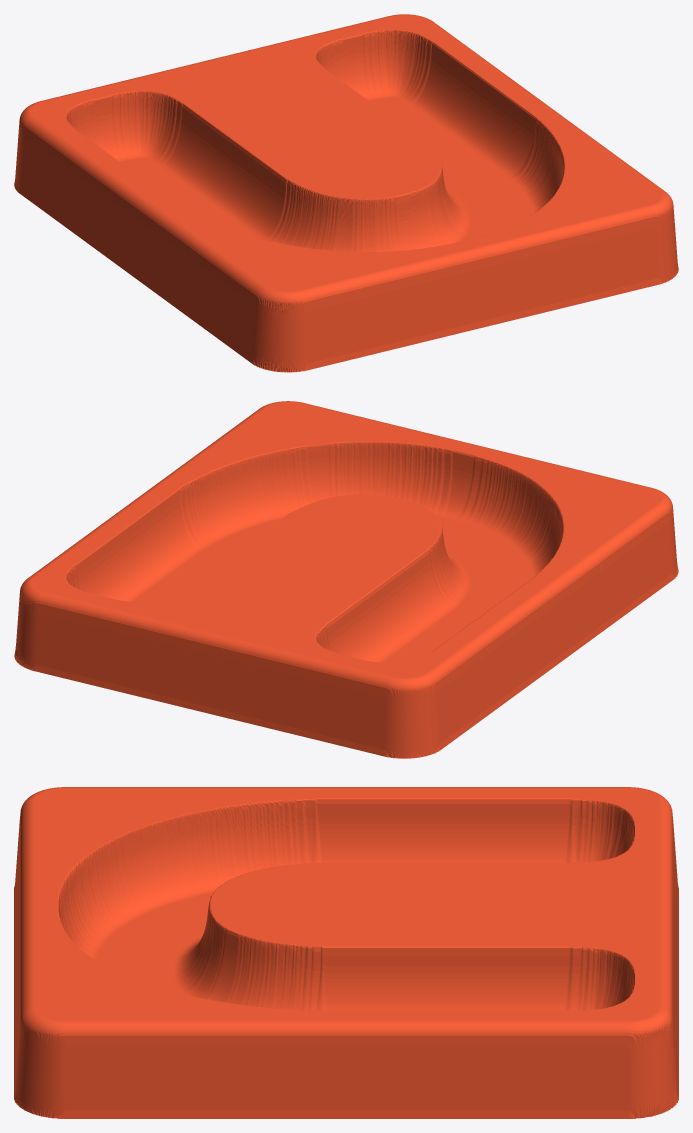
File: mold.glb
3 views of the same model, one above another, from view 1: azimuth 30°, elevation 25°; view 2: azimuth 150°, elevation 25°; view 3: azimuth 270°, elevation 25° (orthographic). The views are drawn at different scales.
Parts seen in each view (by area): view 1: geometry_0; view 2: geometry_0; view 3: geometry_0.
Part boxes in pixels (<box>): geometry_0: <box>14,14,678,372</box>; geometry_0: <box>14,401,678,758</box>; geometry_0: <box>14,787,678,1118</box>.
Bounding box in the file's own units: 0.1046 × 0.0175 × 0.1178.
